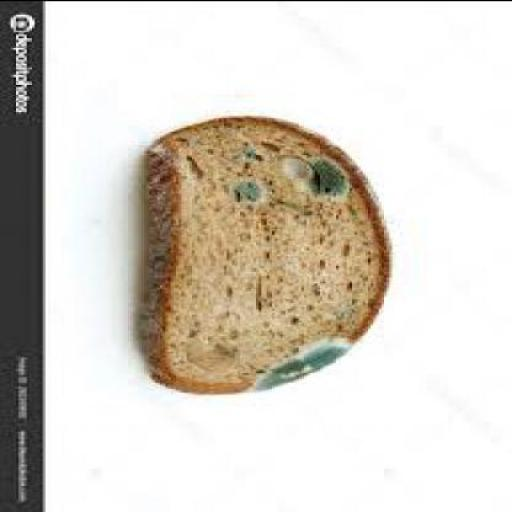biodegradable: (144, 113, 395, 393)
